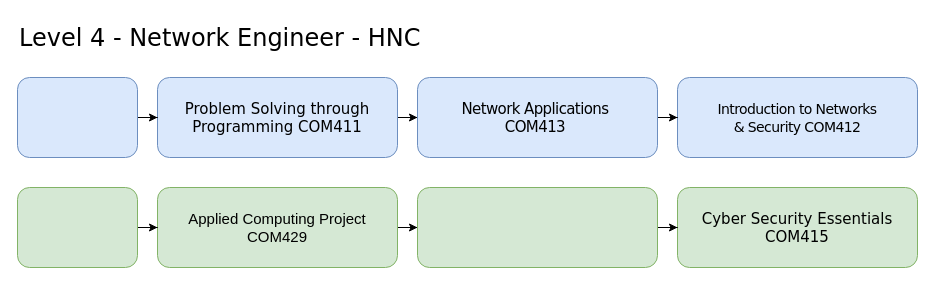
Image size: 935x285. Some labels were removed from this diagram. The shapes that lost their labels are listed below. From the top down, each one's centre as x and y in pixels, then its label:
At point 77,117: "Semester 1".
At point 77,227: "Semester 2".
At point 537,227: "Routing & Switching COM414".
